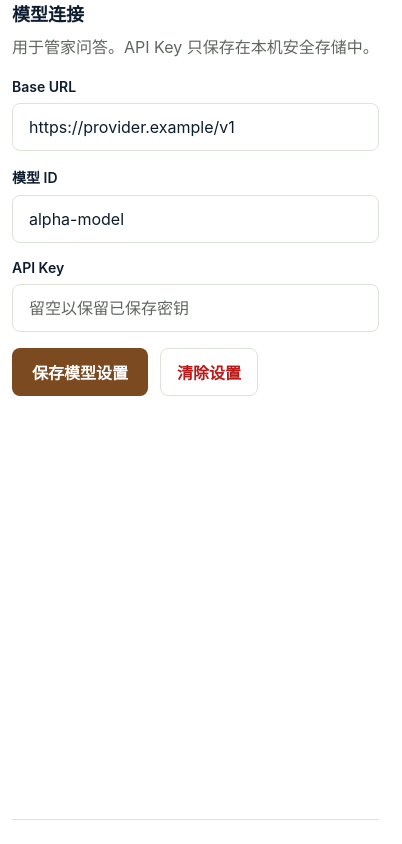
model settings require an explicit second press before clearing
Click the button "清除设置": {"x": 209, "y": 372} [160,348,258,396]
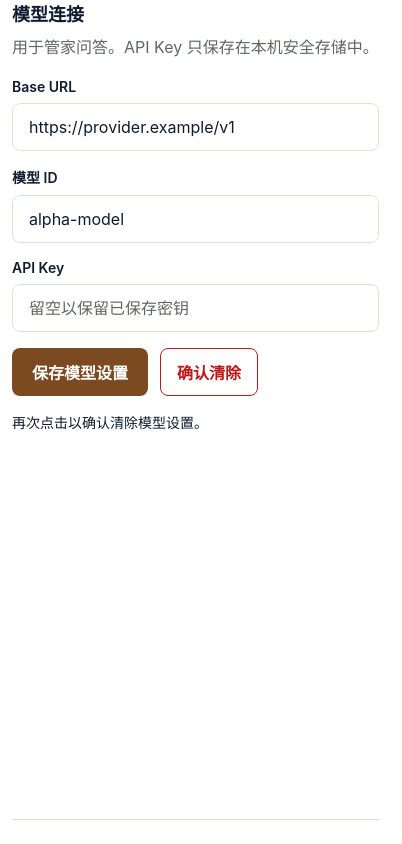
Click the button "确认清除": {"x": 209, "y": 372} [160,348,258,396]
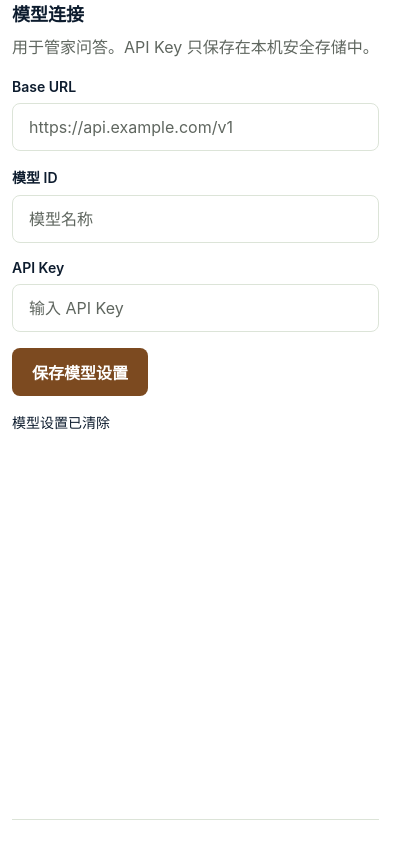
Expected: the text "模型设置已清除" is shown, [12,414,110,431]
